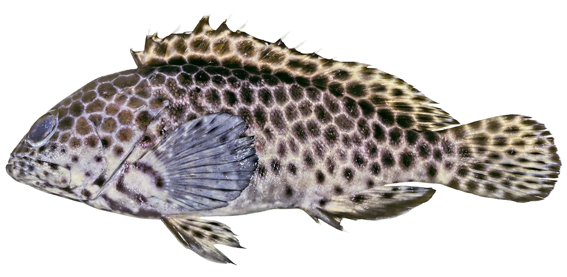fish: (5, 12, 562, 266)
